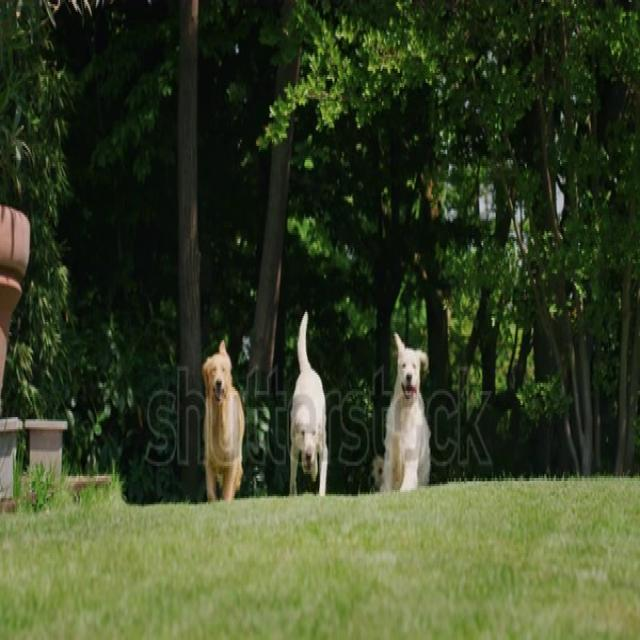normal_animals: (372, 348, 456, 528), (278, 344, 353, 534), (180, 346, 260, 520)
